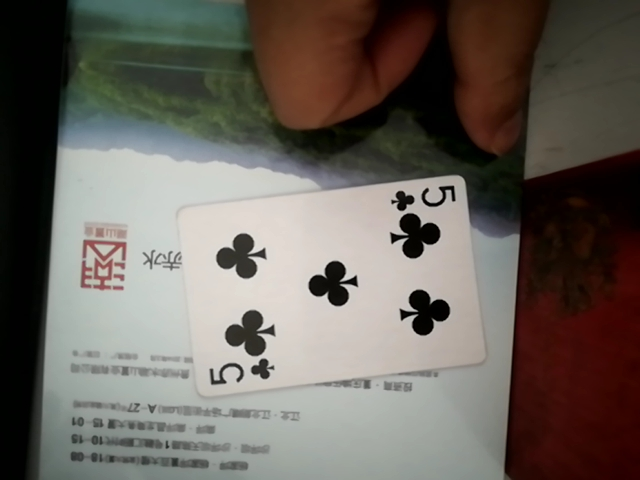mh 5: (155, 170, 496, 401)
